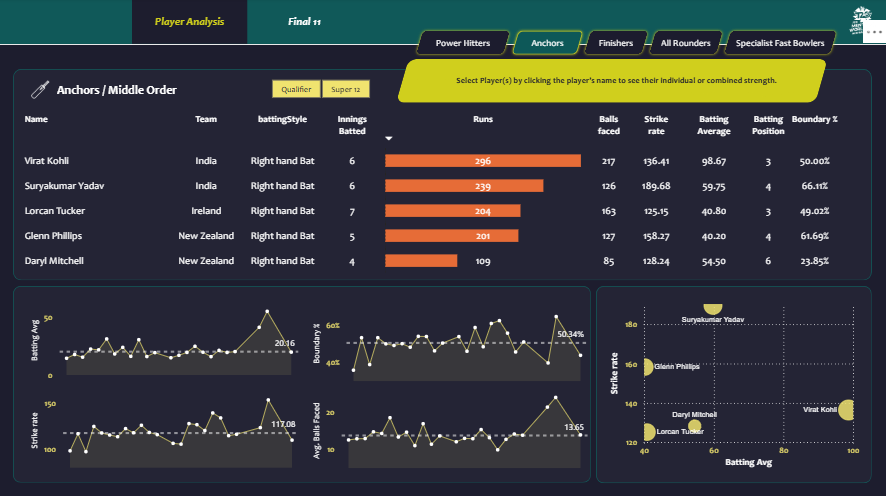

The page's visual inventory and layout, read from the dashboard file:
{"tool":"powerbi","page":{"name":"New Anchors / Middle Order","canvas":[1280,720],"ordinal":1},"visuals":[{"type":"shape","box":[0,66,1280,654],"z":0},{"type":"card","fields":{"Values":["Key_Measures.Strike rate"]},"box":[866.4,88.6,93,60],"z":0,"group":"g2"},{"type":"group","id":"g1","title":"Group 2","box":[83.8,116.2,260,31.2],"z":0,"group":"g3"},{"type":"shape","box":[83.8,116.2,260,31.2],"z":0,"group":"g1"},{"type":"card","fields":{"Values":["Key_Measures.Bat Avg"]},"box":[767.4,88.6,92,60],"z":1000,"group":"g2"},{"type":"image","box":[38,114,44,36],"z":1000,"group":"g3"},{"type":"shape","box":[20,414.4,832.2,283.3],"z":1000},{"type":"actionButton","box":[734,42.6,111,42],"z":2000},{"type":"card","fields":{"Values":["Key_Measures.Avergate Balls Faced"]},"box":[1063,90.3,110,56.7],"z":2000,"group":"g2"},{"type":"actionButton","box":[596,42.6,144,42],"z":3000},{"type":"card","fields":{"Values":["Key_Measures.Boundary %"]},"box":[965.4,88.6,101,60],"z":3000,"group":"g2"},{"type":"actionButton","box":[838,42.6,101,42],"z":4000},{"type":"actionButton","box":[932,42.6,115,42],"z":5000},{"type":"actionButton","box":[1039,42.6,171,42],"z":6000},{"type":"image","box":[1220,3,48,59],"z":7000},{"type":"areaChart","fields":{"Category":["dim_match_summary.Match_Date.Variation.Date Hierarchy.Day"],"Y":["Key_Measures.Boundary %"]},"box":[446,430,406,126],"z":9000},{"type":"shape","box":[860,414,397,284],"z":10000},{"type":"areaChart","fields":{"Category":["dim_match_summary.Match_Date.Variation.Date Hierarchy.Day"],"Y":["Key_Measures.Avergate Balls Faced"]},"box":[446,556,406,126],"z":11000},{"type":"areaChart","fields":{"Category":["dim_match_summary.Match_Date.Variation.Date Hierarchy.Day"],"Y":["Key_Measures.Bat Avg"]},"box":[40,428.9,395.6,126.7],"z":12000},{"type":"areaChart","fields":{"Category":["dim_match_summary.Match_Date.Variation.Date Hierarchy.Day"],"Y":["Key_Measures.Strike rate"]},"box":[40,555.6,396.7,125.6],"z":13000},{"type":"shape","box":[20,102.2,1236.7,304.4],"z":14000},{"type":"slicer","fields":{"Values":["dim_match_summary.stage"]},"box":[366.7,111.1,191.1,38.9],"z":15000},{"type":"shape","box":[572,88,622,63],"z":16000},{"type":"shape","box":[590.4,101.6,173,34],"z":17000},{"type":"group","id":"g2","title":"Combined Perfoamce Metrices","box":[767.4,88.6,405.6,60],"z":18000},{"type":"group","id":"g3","title":"Group 1","box":[38,114,305.8,36],"z":19000},{"type":"tableEx","fields":{"Values":["dim_player.name","dim_player.team","dim_player.Batting Style","Key_Measures.Total Matches","Key_Measures.Total Runs","Key_Measures.total balls faced","Key_Measures.Strike rate","Key_Measures.Bat Avg","Key_Measures.Batting Position","Key_Measures.Boundary %"]},"box":[26,151,1231,255],"z":20000},{"type":"scatterChart","fields":{"Y":["Key_Measures.Strike rate"],"Category":["dim_player.name"],"X":["Key_Measures.Bat Avg"],"Size":["Key_Measures.Total Runs"]},"box":[874,427,370,254],"z":21000},{"type":"actionButton","title":"Button Player Ana selected","box":[357,0,166,66],"z":22000},{"type":"actionButton","title":"Button Player Ana selected","box":[191,0,166,66],"z":23000},{"type":"shape","box":[608.6,100.9,560.6,36.3],"z":23501}]}

Visuals, with their boxes in screenshot pixels (x1, y1, x2, y2), scaled from the page's 1280x720 canvas onto the 886x496 screenshot:
shape: (left=0, top=45, right=885, bottom=495)
card - Key_Measures.Strike rate: (left=600, top=61, right=664, bottom=102)
"Group 2" group: (left=58, top=80, right=238, bottom=102)
shape: (left=58, top=80, right=238, bottom=102)
card - Key_Measures.Bat Avg: (left=531, top=61, right=595, bottom=102)
image: (left=26, top=79, right=57, bottom=103)
shape: (left=14, top=285, right=590, bottom=481)
actionButton: (left=508, top=29, right=585, bottom=58)
card - Key_Measures.Avergate Balls Faced: (left=736, top=62, right=812, bottom=101)
actionButton: (left=413, top=29, right=512, bottom=58)
card - Key_Measures.Boundary %: (left=668, top=61, right=738, bottom=102)
actionButton: (left=580, top=29, right=650, bottom=58)
actionButton: (left=645, top=29, right=725, bottom=58)
actionButton: (left=719, top=29, right=838, bottom=58)
image: (left=844, top=2, right=878, bottom=43)
areaChart - dim_match_summary.Match_Date.Variation.Date Hierarchy.Day x Key_Measures.Boundary %: (left=309, top=296, right=590, bottom=383)
shape: (left=595, top=285, right=870, bottom=481)
areaChart - dim_match_summary.Match_Date.Variation.Date Hierarchy.Day x Key_Measures.Avergate Balls Faced: (left=309, top=383, right=590, bottom=470)
areaChart - dim_match_summary.Match_Date.Variation.Date Hierarchy.Day x Key_Measures.Bat Avg: (left=28, top=295, right=302, bottom=383)
areaChart - dim_match_summary.Match_Date.Variation.Date Hierarchy.Day x Key_Measures.Strike rate: (left=28, top=383, right=302, bottom=469)
shape: (left=14, top=70, right=870, bottom=280)
slicer - dim_match_summary.stage: (left=254, top=77, right=386, bottom=103)
shape: (left=396, top=61, right=826, bottom=104)
shape: (left=409, top=70, right=528, bottom=93)
"Combined Perfoamce Metrices" group: (left=531, top=61, right=812, bottom=102)
"Group 1" group: (left=26, top=79, right=238, bottom=103)
tableEx - dim_player.name x dim_player.team: (left=18, top=104, right=870, bottom=280)
scatterChart - Key_Measures.Strike rate x dim_player.name: (left=605, top=294, right=861, bottom=469)
"Button Player Ana selected" actionButton: (left=247, top=0, right=362, bottom=45)
"Button Player Ana selected" actionButton: (left=132, top=0, right=247, bottom=45)
shape: (left=421, top=70, right=809, bottom=95)
